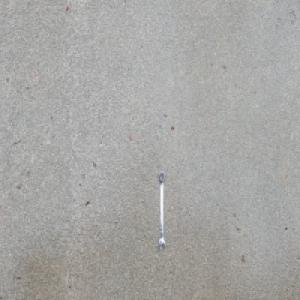Wrench: (157, 168, 166, 253)
